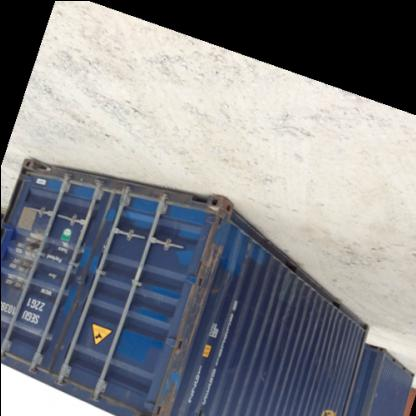Damage: (160, 246, 224, 412), (274, 272, 306, 322)
